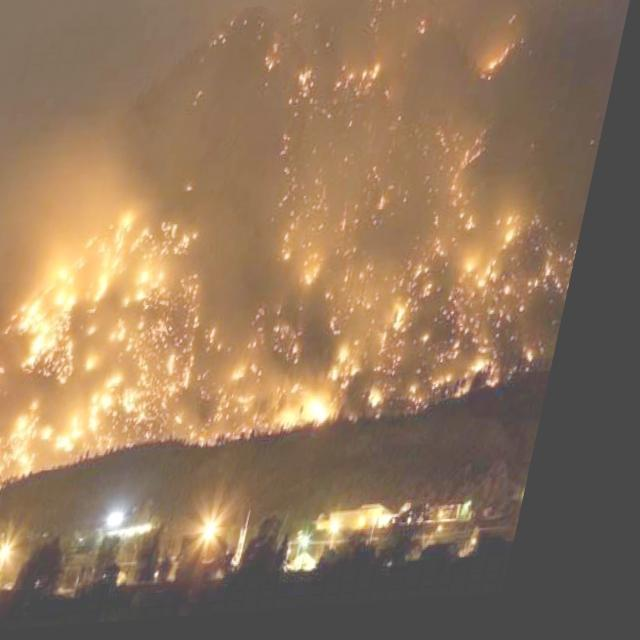Fire: (230, 42, 574, 438), (0, 214, 236, 496)
